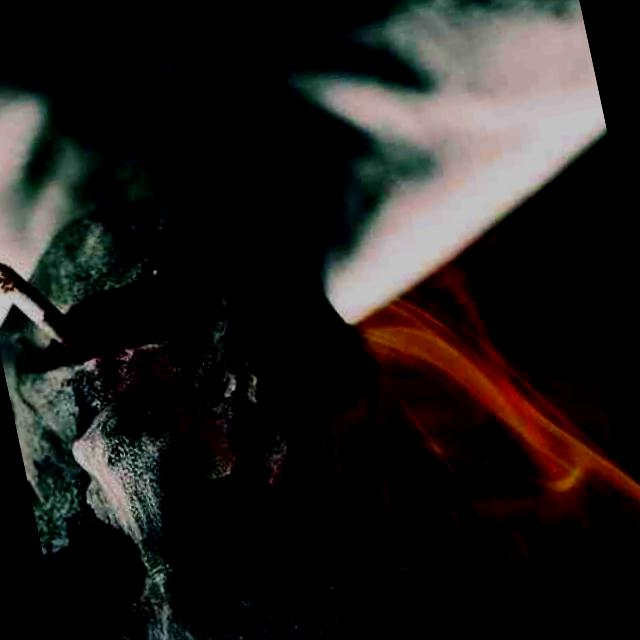cigarette: (0, 231, 70, 368)
